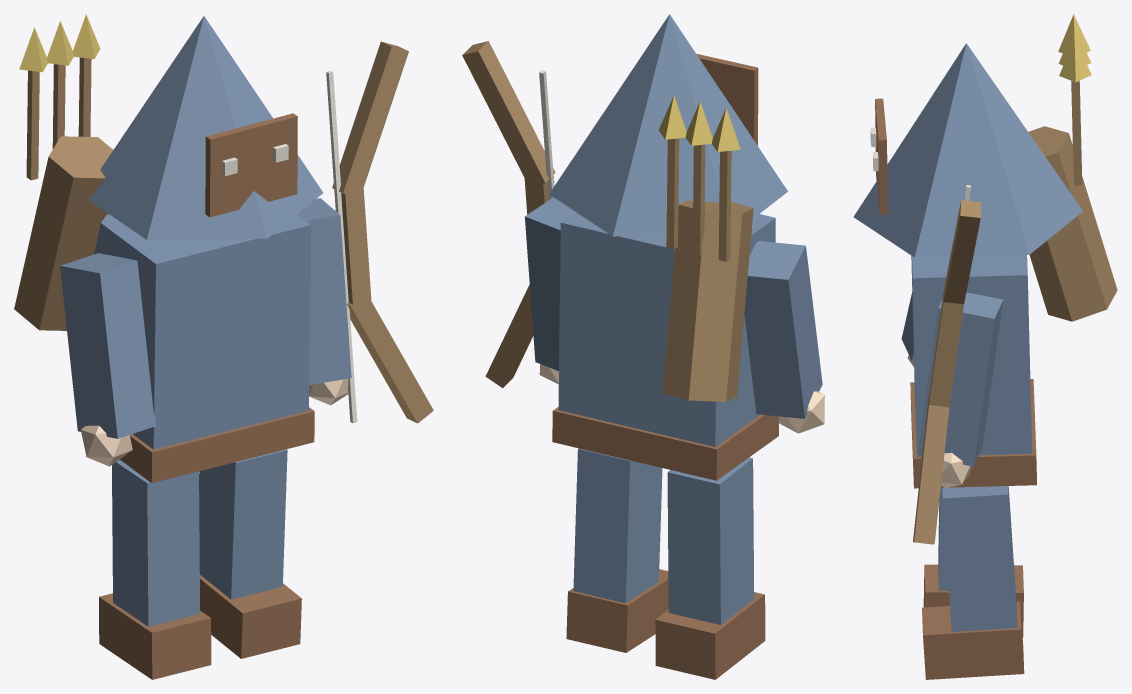
The model's file is npcpose_archer_idle_03.glb.
3 views of the same model, side by side, from view 1: azimuth 30°, elevation 25°; view 2: azimuth 150°, elevation 25°; view 3: azimuth 270°, elevation 25° (orthographic). The views are drawn at different scales.
Visible parts, largest first — view 1: npcpose; view 2: npcpose; view 3: npcpose.
Boxes of the visible parts, <box> form: npcpose: <box>14,14,433,679</box>; npcpose: <box>462,14,824,679</box>; npcpose: <box>853,14,1117,679</box>.
Bounding box in the file's own units: 0.9096 × 1.62 × 0.6433.
